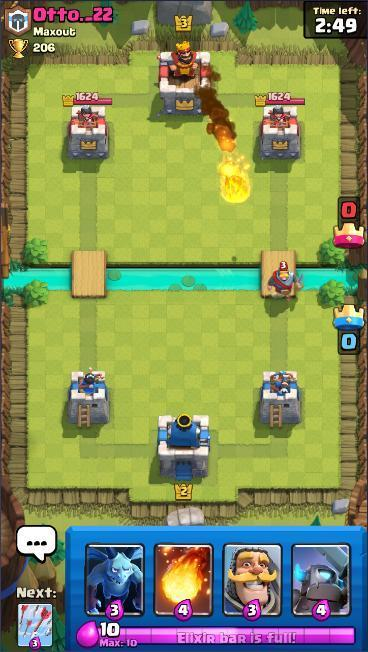enemy_fireball: (214, 151, 258, 207)
enemy_knight: (266, 260, 305, 302)
